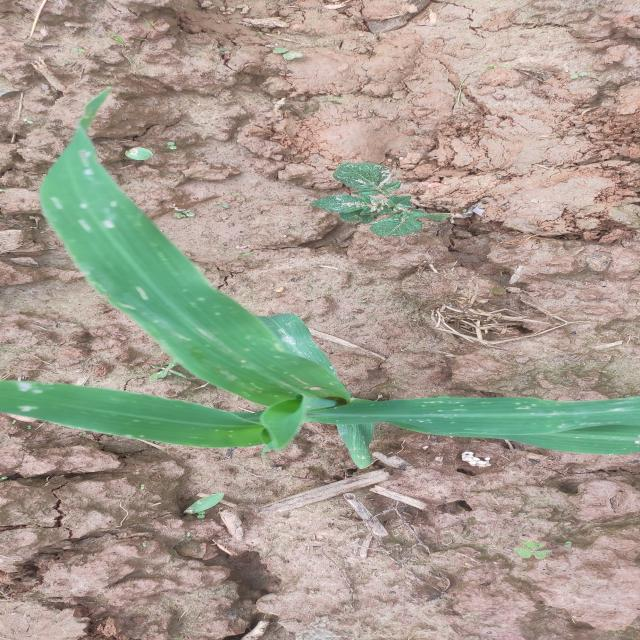maize: (0, 79, 640, 497)
weed: (324, 154, 490, 260), (111, 130, 207, 155), (491, 542, 599, 564), (177, 480, 229, 522)
